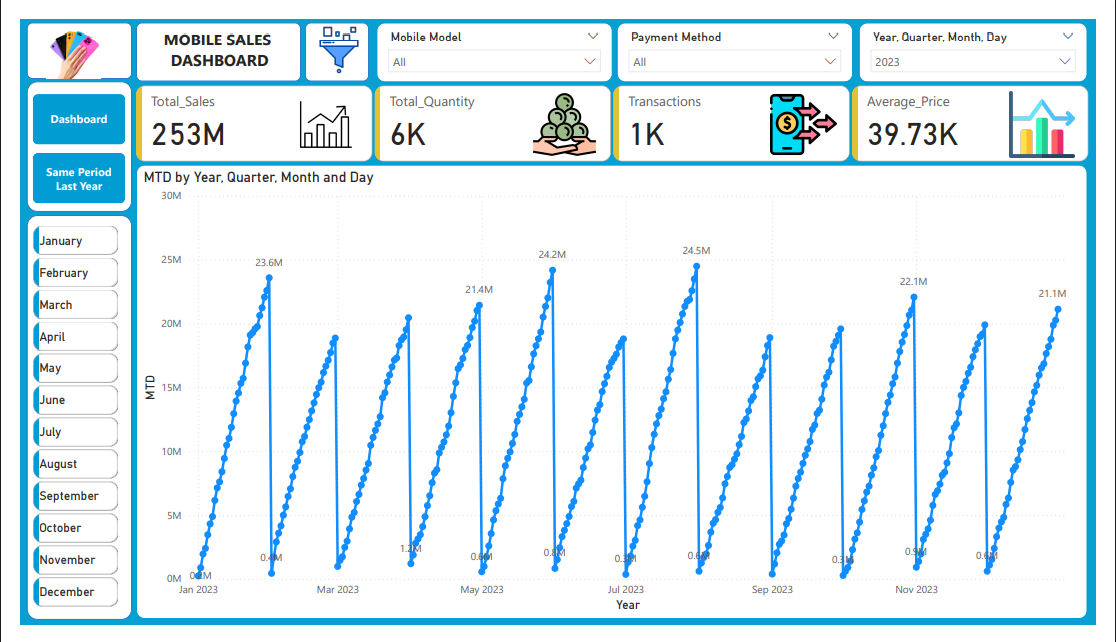

This screenshot's page, from the dashboard's own definition file:
{"tool":"powerbi","page":{"name":"MTD Report","canvas":[1280,720],"ordinal":1},"visuals":[{"type":"shape","box":[7.5,3.8,125,67.5],"z":0},{"type":"image","box":[23.8,3.8,78.8,71.2],"z":1000},{"type":"shape","box":[7.5,73.8,125,155],"z":2000},{"type":"shape","box":[7.5,232.5,125,481.2],"z":3000},{"type":"cardVisual","fields":{"Data":["Sales_Data.Total_Sales","Sales_Data.Total_Quantity","Sales_Data.Transactions","Sales_Data.Average_Price"]},"box":[132.5,73.8,1144,100],"z":4000},{"type":"slicer","fields":{"Values":["Sales_Data.Mobile Model"]},"box":[423.8,3.8,281.2,71.2],"z":5000},{"type":"slicer","fields":{"Values":["Sales_Data.Payment Method"]},"box":[710,3.8,281.2,71.2],"z":6000},{"type":"slicer","fields":{"Values":["Custom_Calendar.Date.Variation.Date Hierarchy.Year","Custom_Calendar.Date.Variation.Date Hierarchy.Quarter","Custom_Calendar.Date.Variation.Date Hierarchy.Month","Custom_Calendar.Date.Variation.Date Hierarchy.Day"]},"box":[997.5,3.8,272.5,71.2],"z":7000},{"type":"shape","box":[338.8,3.8,76.2,70],"z":8000},{"type":"image","box":[337.5,3.8,81.2,66.2],"z":9000},{"type":"shape","box":[137.5,3.8,196.2,70],"z":10000},{"type":"textbox","box":[156.2,6.2,162.5,63.8],"z":11000},{"type":"lineChart","fields":{"Y":["Sales_Data.MTD"],"Category":["Custom_Calendar.Date.Variation.Date Hierarchy.Year","Custom_Calendar.Date.Variation.Date Hierarchy.Quarter","Custom_Calendar.Date.Variation.Date Hierarchy.Month","Custom_Calendar.Date.Variation.Date Hierarchy.Day"]},"box":[137.7,173.4,1132.1,539.3],"z":12000},{"type":"advancedSlicerVisual","fields":{"Values":["Custom_Calendar.Date.Variation.Date Hierarchy.Month"]},"box":[11.2,241.2,110,472.5],"z":13000},{"type":"pageNavigator","box":[15,88.8,110,130],"z":14000}]}

Visuals, with their boxes in screenshot pixels (x1, y1, x2, y2), scaled from the page's 1280x720 canvas onto the 1116x642 screenshot:
shape: 7:3:116:64
image: 21:3:89:67
shape: 7:66:116:204
shape: 7:207:116:636
cardVisual - Sales_Data.Total_Sales x Sales_Data.Total_Quantity: 116:66:1113:155
slicer - Sales_Data.Mobile Model: 370:3:615:67
slicer - Sales_Data.Payment Method: 619:3:864:67
slicer - Custom_Calendar.Date.Variation.Date Hierarchy.Year x Custom_Calendar.Date.Variation.Date Hierarchy.Quarter: 870:3:1107:67
shape: 295:3:362:66
image: 294:3:365:62
shape: 120:3:291:66
textbox: 136:6:278:62
lineChart - Sales_Data.MTD x Custom_Calendar.Date.Variation.Date Hierarchy.Year: 120:155:1107:635
advancedSlicerVisual - Custom_Calendar.Date.Variation.Date Hierarchy.Month: 10:215:106:636
pageNavigator: 13:79:109:195
